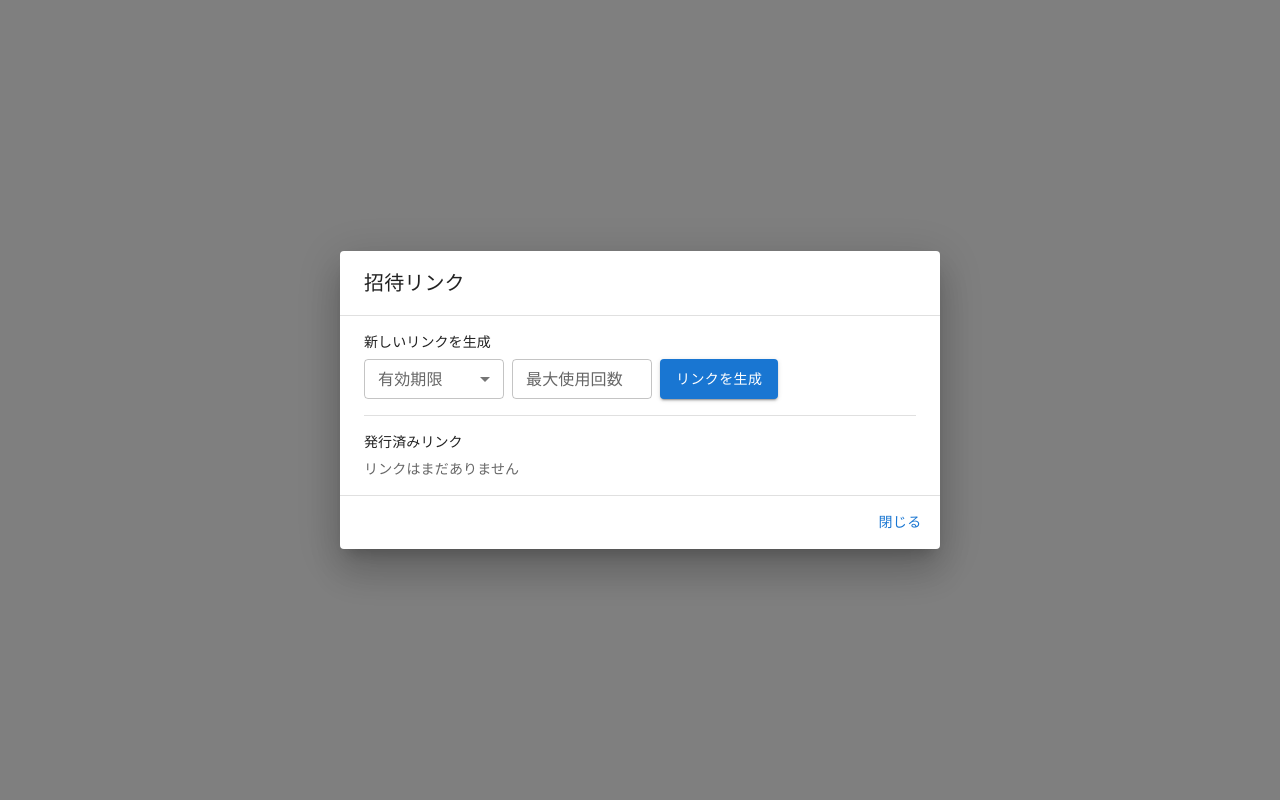
Test: InviteLinkDialog › リンク生成 › 生成されたリンクが URL 形式でダイアログ内に表示される
Click the button "リンクを生成" at (719, 379), box x1=660 y1=359 x2=778 y2=399
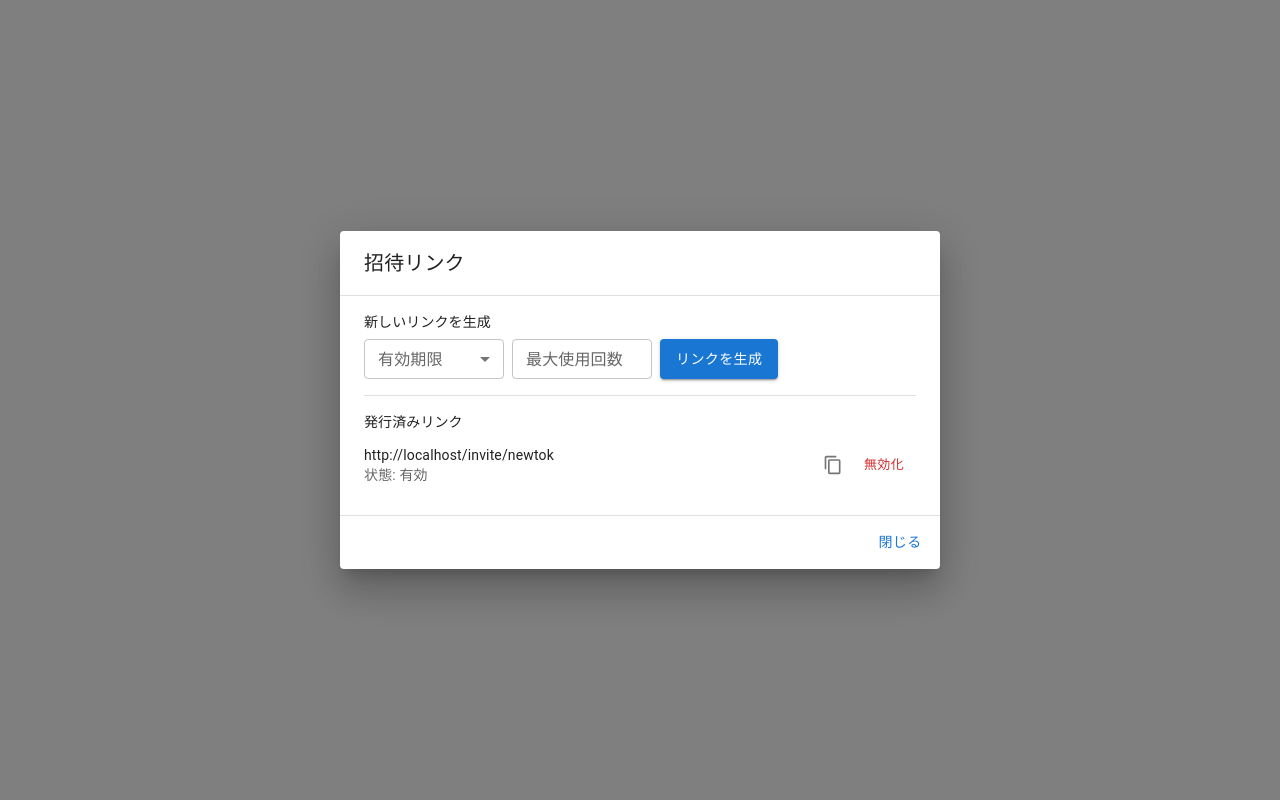
Result: the text "http://localhost/invite/newtok" is shown at x1=364 y1=447 x2=554 y2=463
